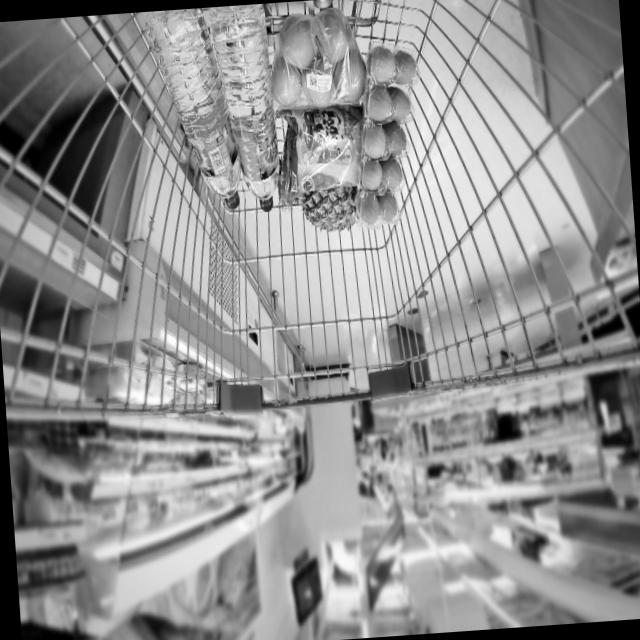egg: (346, 39, 425, 238)
pineapple: (290, 182, 370, 244)
